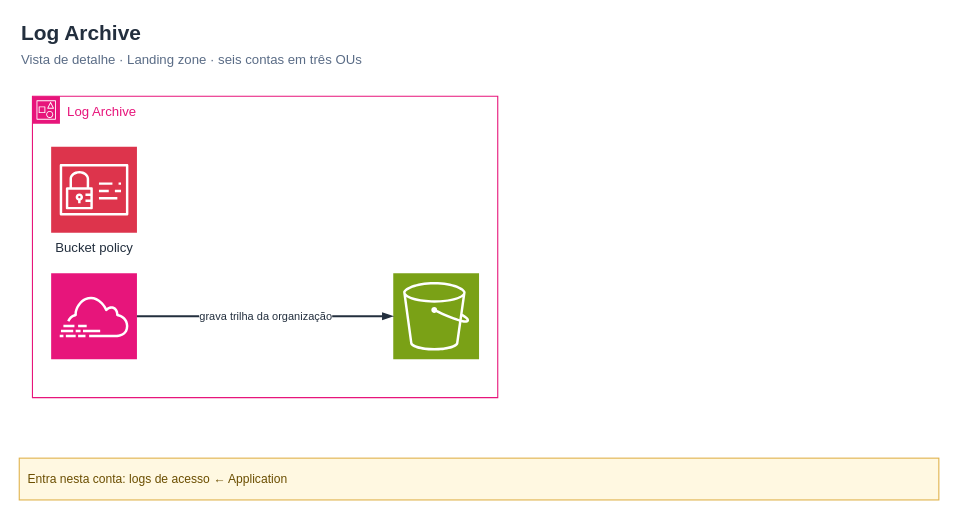
Some shapes in this 958 by 519 pixel diagram are drawn without their labels. Each missing label, with the centre of its shape:
"CloudTrail" goes at point 93,315.
"Log bucket" goes at point 435,315.
